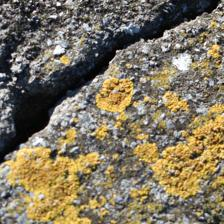Crack: (5, 5, 207, 165)
